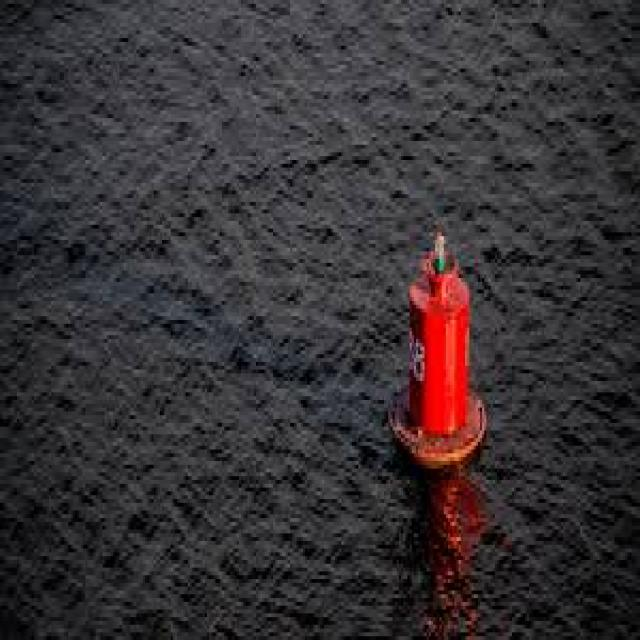buoy: (390, 200, 487, 478)
